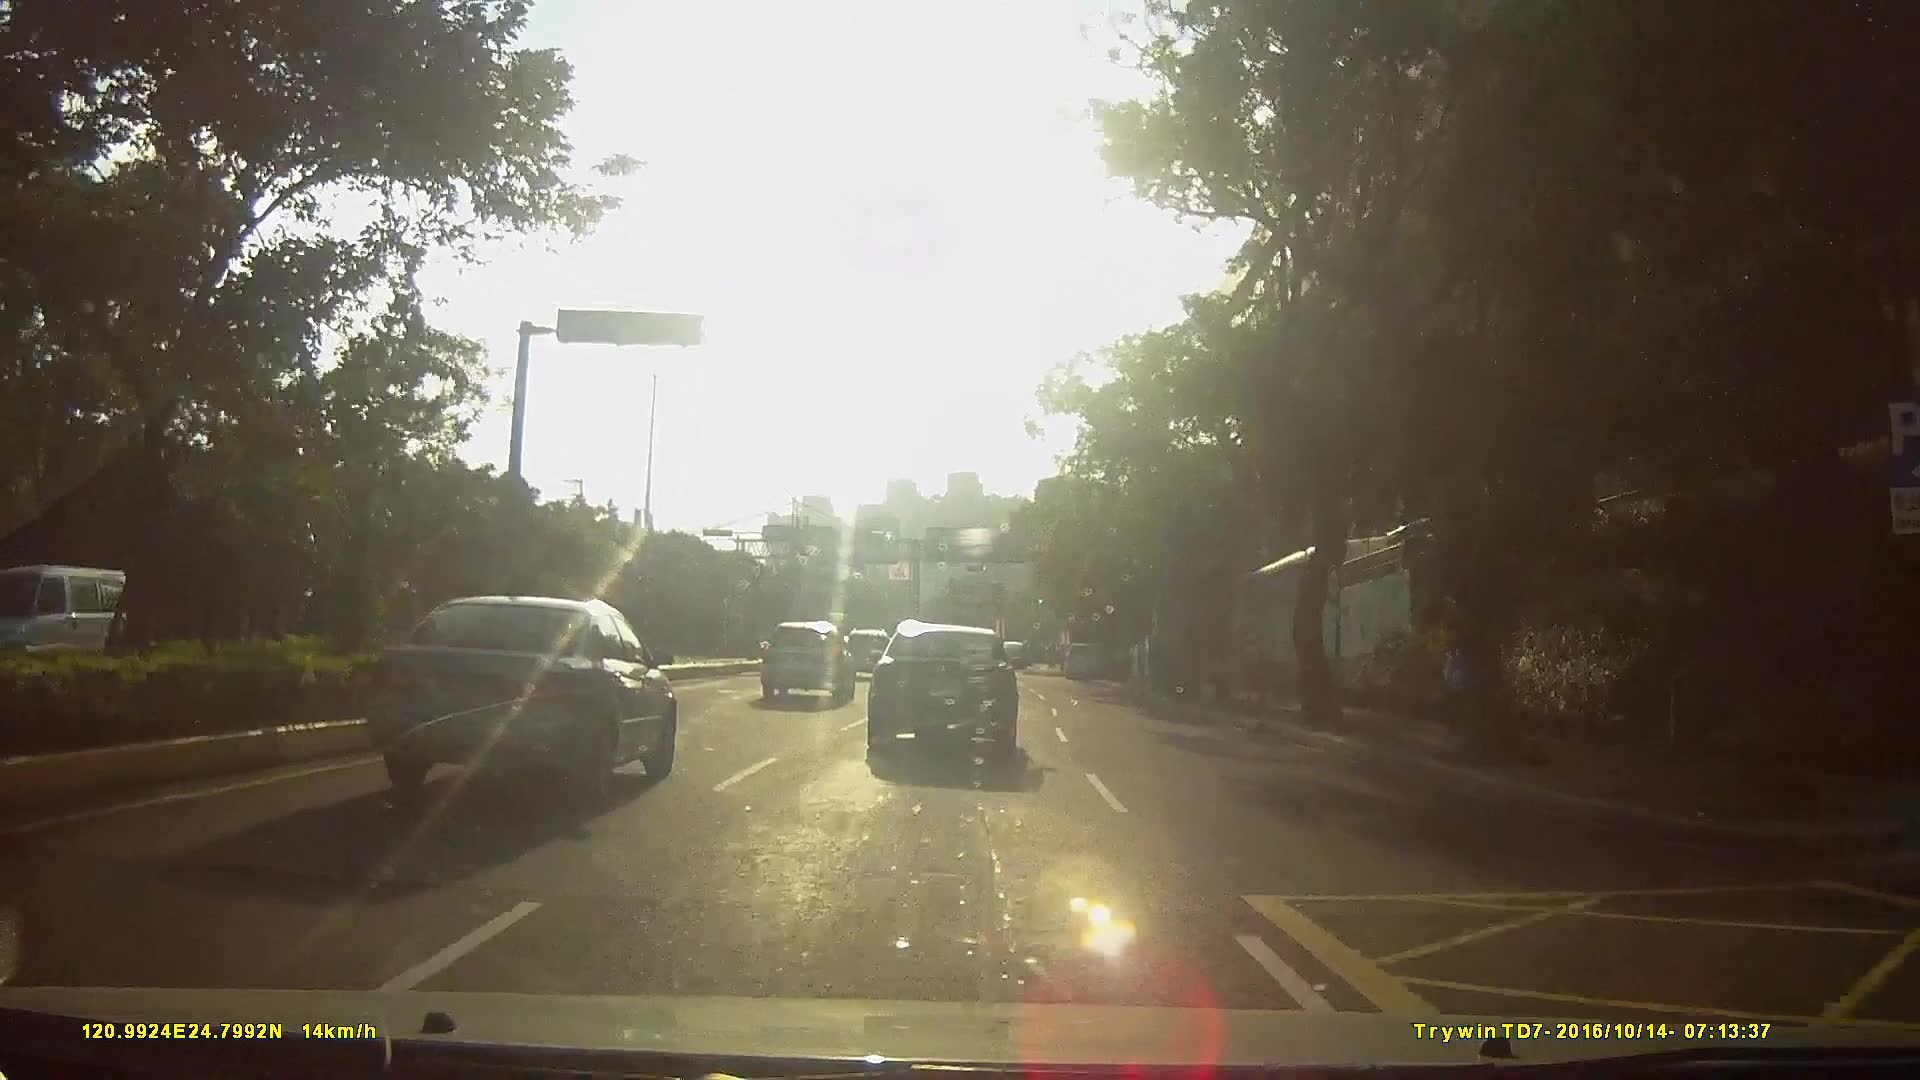vehicle: (367, 591, 676, 807), (866, 618, 1043, 764), (1, 567, 161, 699), (757, 616, 857, 704), (840, 625, 895, 673), (1065, 636, 1113, 678)
